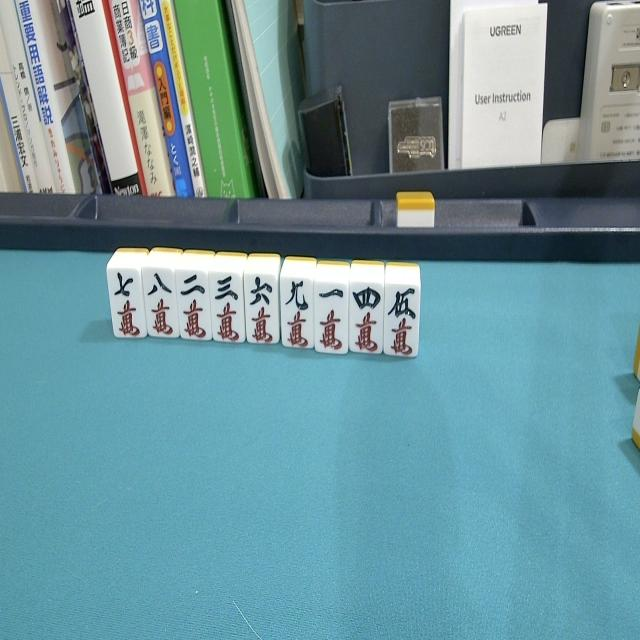1_man: (311, 260, 351, 366)
2_man: (175, 248, 216, 350)
3_man: (208, 250, 249, 350)
4_man: (346, 259, 386, 364)
5_man: (380, 260, 424, 367)
6_man: (241, 249, 283, 351)
7_man: (106, 248, 150, 350)
8_man: (140, 246, 183, 350)
9_man: (278, 254, 318, 360)
